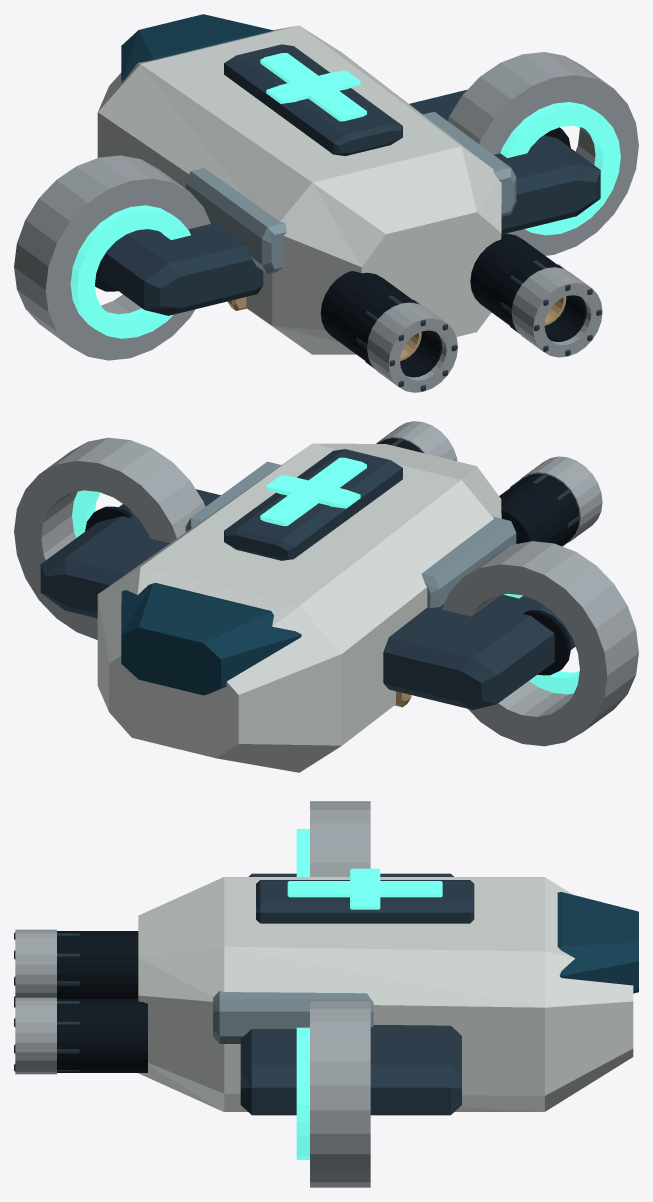
File: courier_debris.glb
3 renders of one model, top to bottom at view 1: azimuth 30°, elevation 25°; view 2: azimuth 150°, elevation 25°; view 3: azimuth 270°, elevation 25°, orthographic. The views are drawn at different scales.
Parts seen in each view (by area): view 1: port_armor, core_engine, core_armor, port_engine, starboard_armor, starboard_engine; view 2: port_armor, core_armor, starboard_armor, port_engine, core_engine, starboard_engine; view 3: starboard_armor, core_armor, starboard_engine, core_engine, port_armor.
Boxes of the visible parts, left/top/right/bottom form: port_armor: left=14, top=63, right=312, bottom=360; core_engine: left=273, top=110, right=576, bottom=392; core_armor: left=98, top=14, right=460, bottom=182; port_engine: left=144, top=171, right=422, bottom=392; starboard_armor: left=302, top=27, right=638, bottom=255; starboard_engine: left=435, top=112, right=602, bottom=356; port_armor: left=238, top=480, right=638, bottom=772; core_armor: left=109, top=443, right=460, bottom=772; starboard_armor: left=14, top=437, right=302, bottom=711; port_engine: left=436, top=461, right=602, bottom=588; core_engine: left=312, top=422, right=576, bottom=543; starboard_engine: left=192, top=421, right=422, bottom=516; starboard_armor: left=221, top=946, right=633, bottom=1187; core_armor: left=224, top=868, right=638, bottom=1094; starboard_engine: left=14, top=946, right=363, bottom=1114; core_engine: left=14, top=877, right=288, bottom=1111; port_armor: left=251, top=801, right=453, bottom=876.
Size of the model in its own units: 2.38 by 0.7725 by 2.26.
